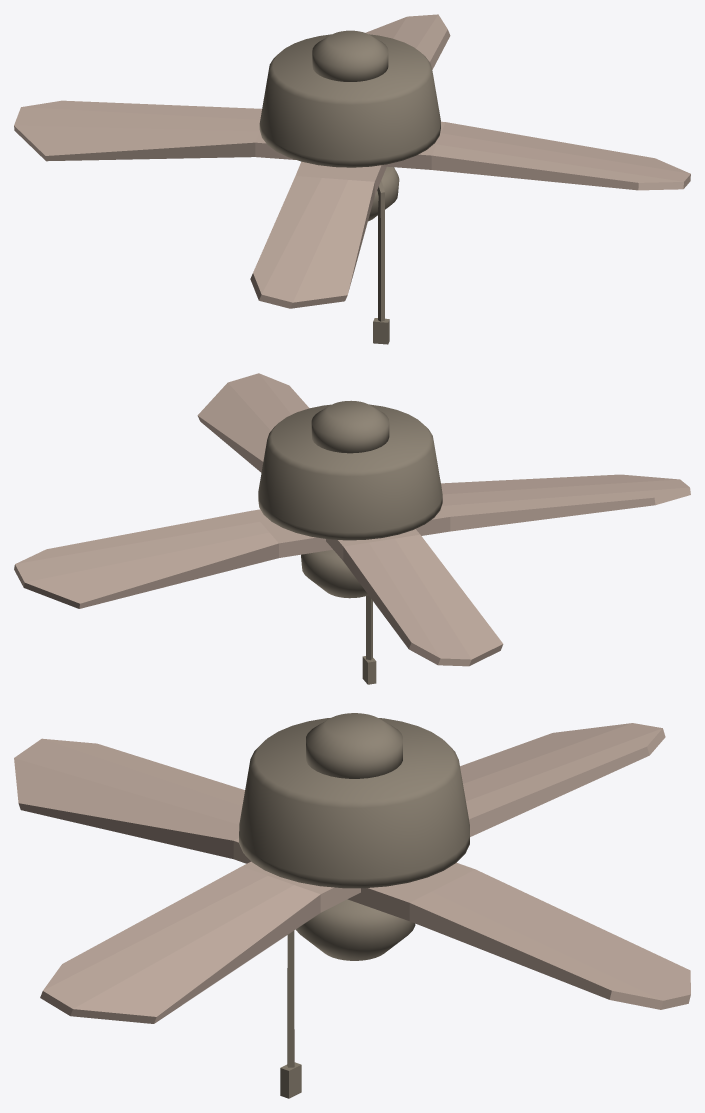
Rendered from CeilingFan.fbx.
3 renders of one model, top to bottom at view 1: azimuth 30°, elevation 25°; view 2: azimuth 150°, elevation 25°; view 3: azimuth 270°, elevation 25°, orthographic. The views are drawn at different scales.
Parts seen in each view (by area): view 1: CeilingFan; view 2: CeilingFan; view 3: CeilingFan.
Part boxes in pixels (left/top/right/bottom): CeilingFan: left=14, top=14, right=690, bottom=344; CeilingFan: left=14, top=373, right=690, bottom=684; CeilingFan: left=14, top=713, right=690, bottom=1098.
Bounding box in the file's own units: 200 × 119 × 200.
